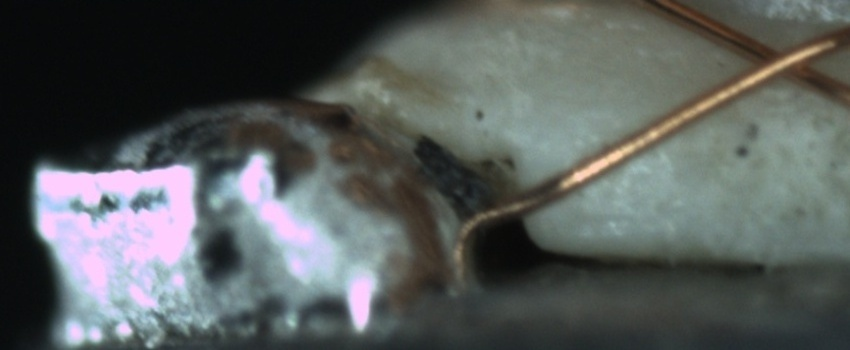CL: (727, 28, 832, 92)
